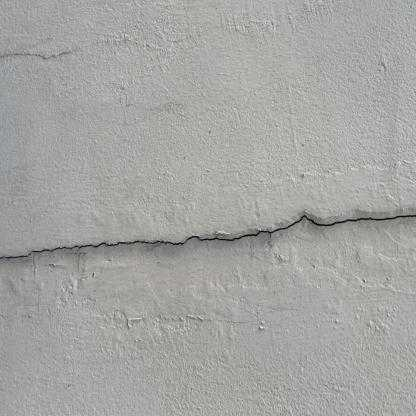crack: (0, 215, 416, 259)
